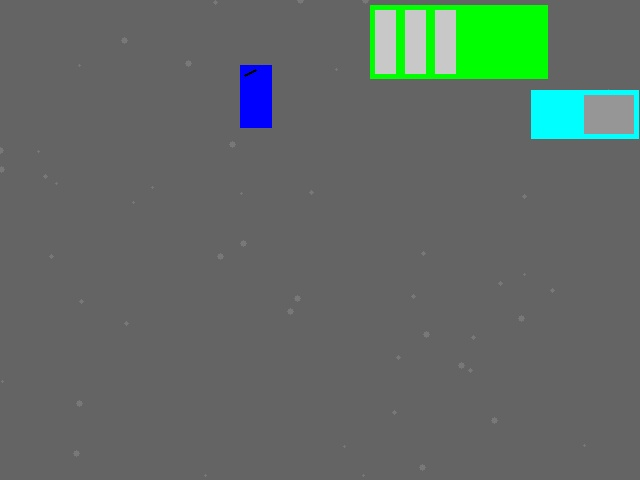bus: (370, 5, 547, 78)
motorcycle: (240, 65, 271, 127)
truck: (531, 90, 638, 138)
